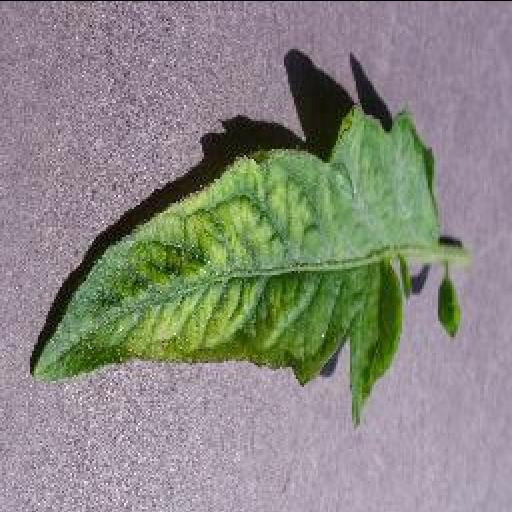Mosaic Virus: (30, 104, 438, 422)
